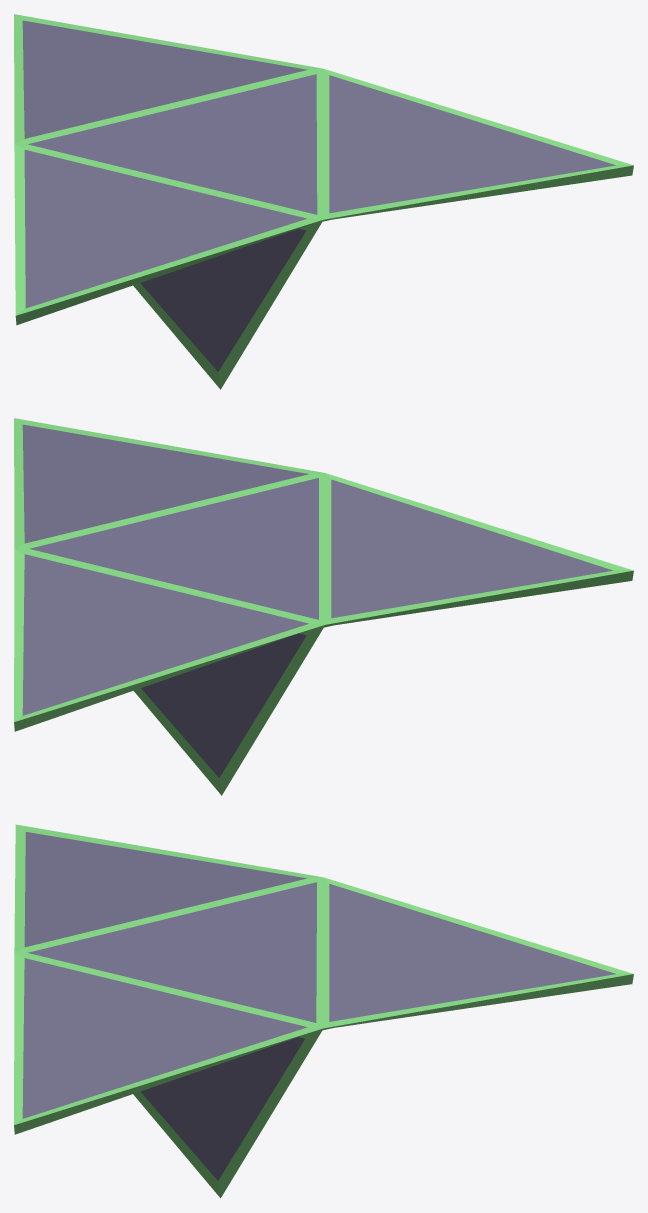
Rendered from REC_Stage2_Tujyounohana.fbx.
3 renders of one model, top to bottom at view 1: azimuth 30°, elevation 25°; view 2: azimuth 150°, elevation 25°; view 3: azimuth 270°, elevation 25°, orthographic.
Parts seen in each view (by area): view 1: Hana1; view 2: Hana1; view 3: Hana1.
Boxes of the visible parts, x1,y1,x2,y2 form: Hana1: (14,14,633,389); Hana1: (14,418,633,795); Hana1: (14,824,633,1198).
Size of the model in its own units: 3.46 by 1.31 by 3.01.
